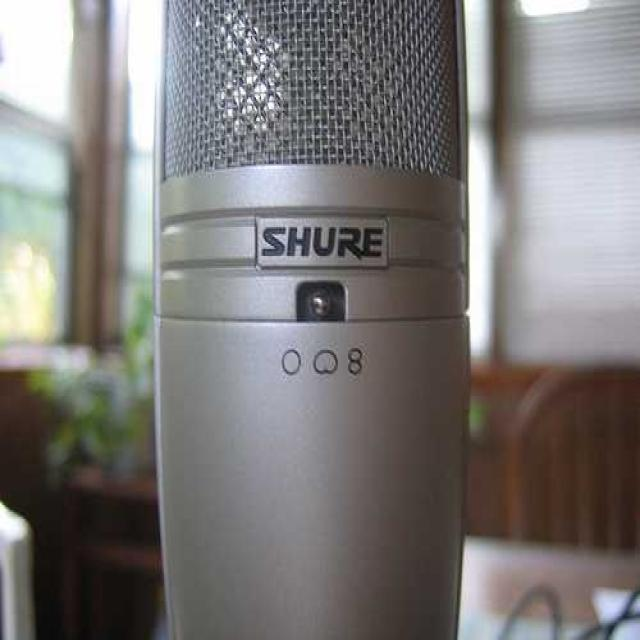microphone: (158, 12, 468, 630)
